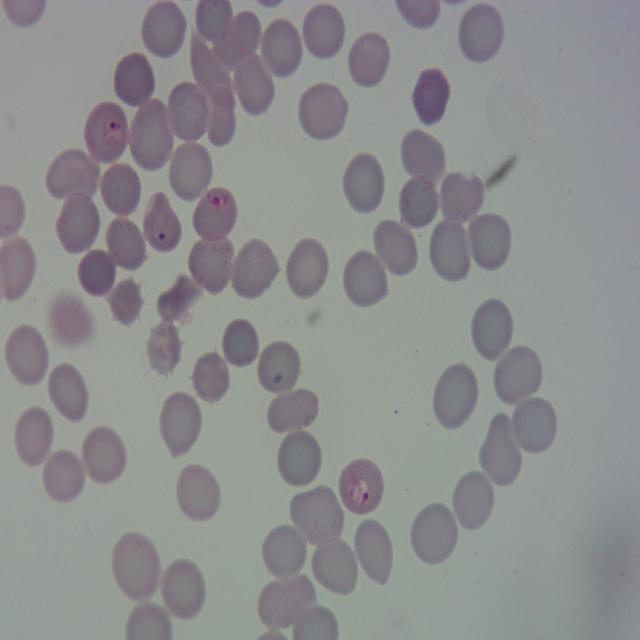leukocyte: (188, 28, 236, 111), (111, 532, 163, 603), (479, 411, 524, 489), (127, 98, 173, 172), (289, 486, 344, 547), (409, 500, 459, 567), (434, 362, 481, 433), (457, 0, 506, 65), (258, 576, 316, 630), (470, 295, 516, 363), (297, 82, 349, 142), (3, 322, 50, 388), (55, 192, 105, 254), (158, 389, 202, 459), (428, 216, 473, 284), (509, 394, 558, 456), (157, 557, 206, 619), (167, 139, 214, 203), (492, 346, 542, 406), (275, 427, 323, 489), (341, 150, 386, 216), (451, 467, 496, 533), (311, 536, 357, 600), (352, 517, 394, 587), (80, 426, 129, 486), (466, 211, 513, 273), (231, 236, 278, 298), (140, 0, 189, 59), (260, 522, 308, 582), (342, 249, 389, 310), (232, 51, 275, 117), (45, 361, 90, 424), (259, 16, 303, 80), (213, 8, 261, 66), (166, 80, 210, 142), (255, 339, 302, 397), (176, 464, 223, 522), (46, 292, 92, 351), (190, 233, 233, 296), (285, 238, 330, 298), (15, 401, 54, 468), (409, 67, 451, 129), (46, 149, 99, 198), (112, 51, 156, 110), (373, 219, 417, 277), (266, 386, 318, 435), (41, 448, 84, 506), (348, 31, 390, 90), (104, 214, 147, 271), (158, 272, 204, 325), (99, 161, 141, 218), (302, 6, 345, 61), (441, 170, 486, 222), (401, 130, 445, 183), (398, 174, 441, 227), (76, 247, 118, 299), (142, 321, 181, 376), (192, 352, 228, 409), (205, 84, 237, 148), (222, 319, 260, 367), (108, 277, 144, 327)
red blood cell: (82, 100, 130, 165), (336, 454, 385, 517), (190, 184, 238, 243)
